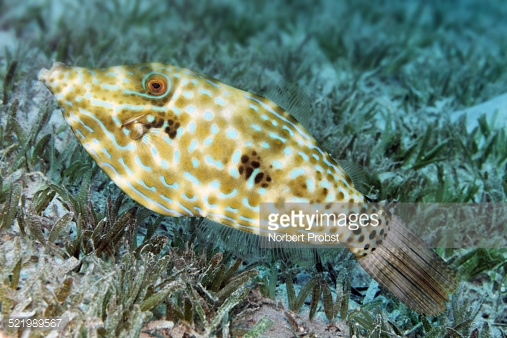Aluterus_scriptus: (39, 58, 463, 320)
